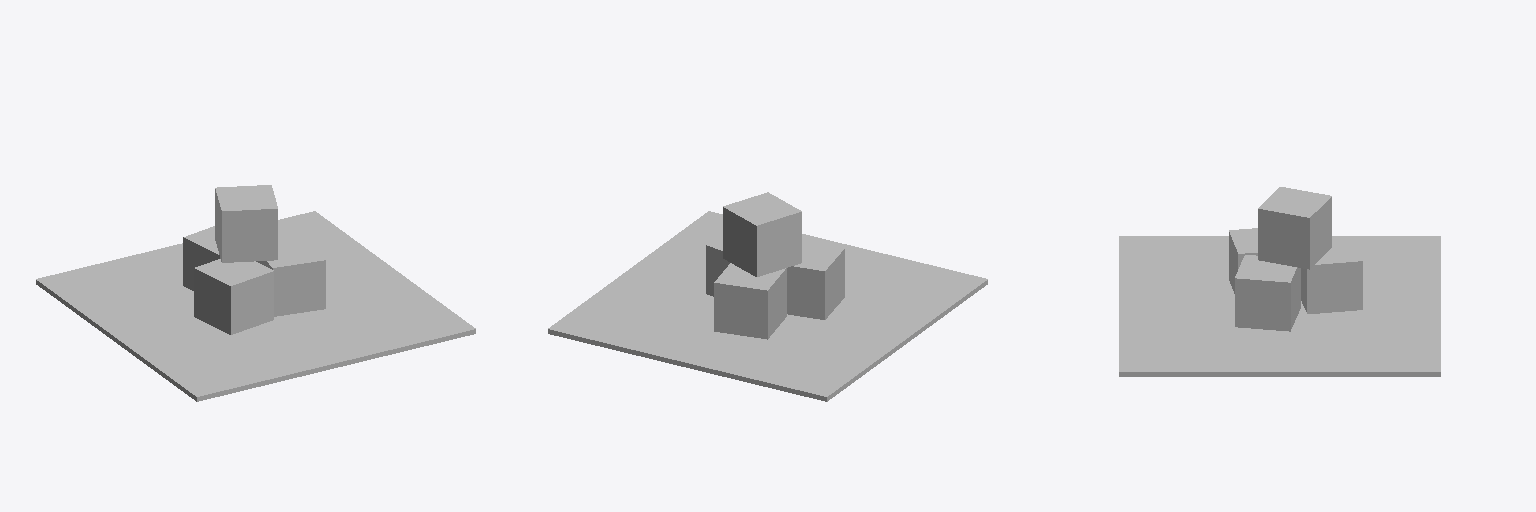
The model's file is crates-normals.obj.
3 renders of one model, left to right at view 1: azimuth 30°, elevation 25°; view 2: azimuth 150°, elevation 25°; view 3: azimuth 270°, elevation 25°, orthographic.
Parts seen in each view (by area): view 1: Mesh.002_Cube.001, Mesh.003_Mesh.000_Cube.001, Mesh_Mesh.003_Cube.001, Mesh.004_Mesh.001_Cube.001, Mesh.001_Mesh.002_Cube.001; view 2: Mesh.002_Cube.001, Mesh_Mesh.003_Cube.001, Mesh.001_Mesh.002_Cube.001, Mesh.003_Mesh.000_Cube.001, Mesh.004_Mesh.001_Cube.001; view 3: Mesh.002_Cube.001, Mesh_Mesh.003_Cube.001, Mesh.004_Mesh.001_Cube.001, Mesh.001_Mesh.002_Cube.001, Mesh.003_Mesh.000_Cube.001.
Part boxes in pixels (x1,y1,x2,y2): Mesh.002_Cube.001: (36,211,475,401); Mesh.003_Mesh.000_Cube.001: (194,259,273,334); Mesh_Mesh.003_Cube.001: (215,185,277,262); Mesh.004_Mesh.001_Cube.001: (256,238,325,316); Mesh.001_Mesh.002_Cube.001: (183,226,219,290); Mesh.002_Cube.001: (548,211,987,401); Mesh_Mesh.003_Cube.001: (723,192,801,276); Mesh.001_Mesh.002_Cube.001: (714,263,786,339); Mesh.003_Mesh.000_Cube.001: (787,242,844,319); Mesh.004_Mesh.001_Cube.001: (706,237,729,296); Mesh.002_Cube.001: (1119,236,1440,376); Mesh_Mesh.003_Cube.001: (1258,187,1331,269); Mesh.004_Mesh.001_Cube.001: (1235,255,1300,331); Mesh.001_Mesh.002_Cube.001: (1301,237,1362,313); Mesh.003_Mesh.000_Cube.001: (1229,228,1257,293).
Bounding box in the file's own units: 11.33 × 4.1 × 11.33.